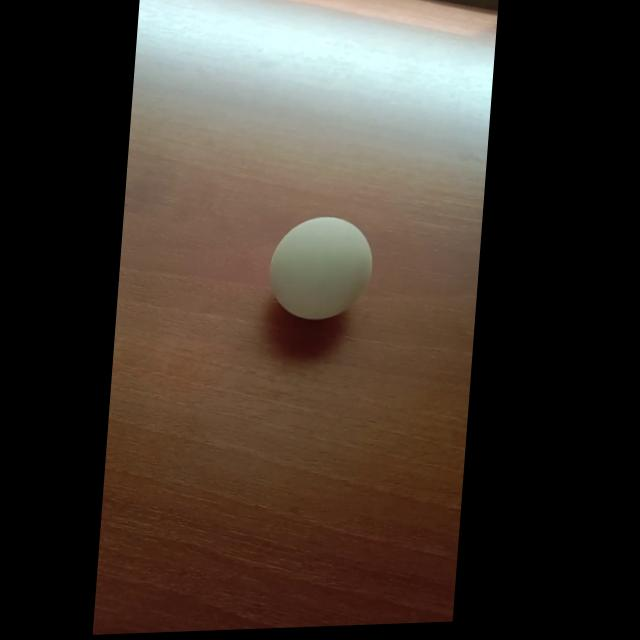white ball: (264, 213, 376, 322)
